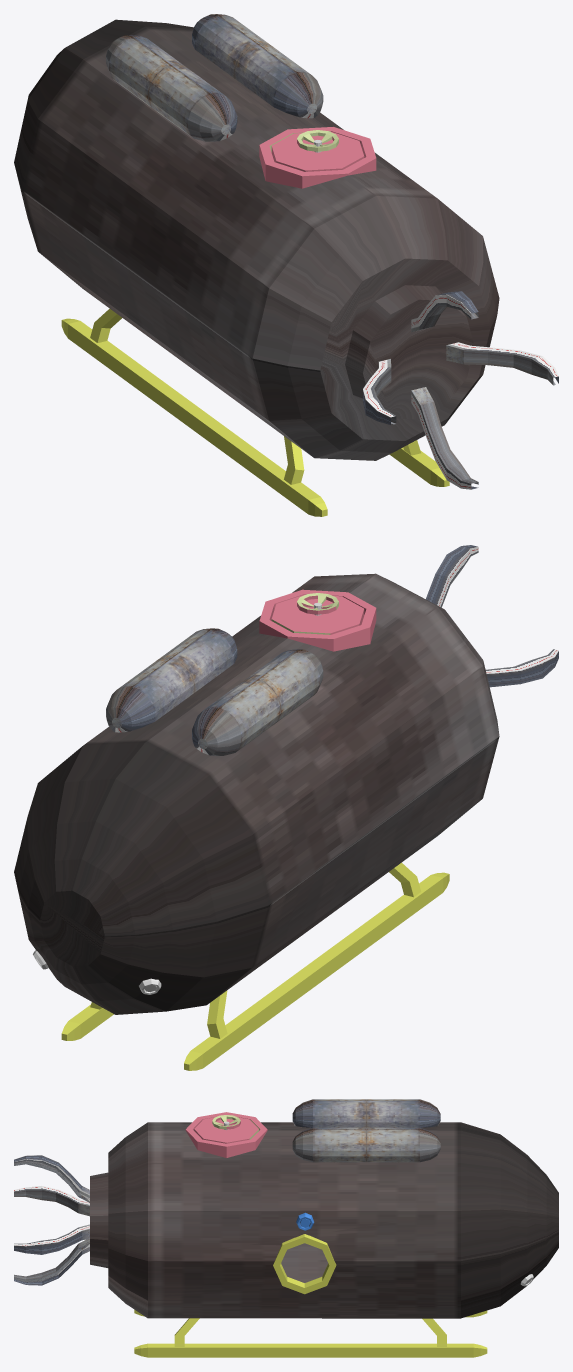
File: submarino.fbx
3 views of the same model, one above another, from view 1: azimuth 30°, elevation 25°; view 2: azimuth 150°, elevation 25°; view 3: azimuth 270°, elevation 25° (orthographic). The views are drawn at different scales.
Visible parts, largest first — view 1: Sphere, Cylinder.002, Cube, Circle, Cube.002, Cube.003; view 2: Sphere, Cylinder.002, Cube, Circle, Cube.003, Cube.002; view 3: Sphere, Cylinder.002, Cube, Circle, Cube.003, Cube.002, Cylinder.
Boxes of the visible parts, box(x1,y1,x2,y2) form: Sphere: box(14, 19, 499, 460); Cylinder.002: box(106, 14, 323, 141); Cube: box(61, 308, 449, 516); Circle: box(259, 127, 376, 188); Cube.002: box(411, 291, 478, 489); Cube.003: box(363, 342, 558, 424); Sphere: box(14, 573, 499, 1014); Cylinder.002: box(106, 628, 323, 755); Cube: box(61, 862, 449, 1070); Circle: box(259, 589, 376, 651); Cube.003: box(485, 649, 558, 687); Cube.002: box(426, 545, 478, 607); Sphere: box(90, 1122, 558, 1318); Cylinder.002: box(292, 1099, 440, 1162); Cube: box(134, 1309, 487, 1357); Circle: box(185, 1112, 267, 1157); Cube.003: box(14, 1186, 89, 1254); Cube.002: box(14, 1155, 89, 1285); Cylinder: box(273, 1234, 336, 1294).
Size of the model in its own units: 316 by 397 by 891.
